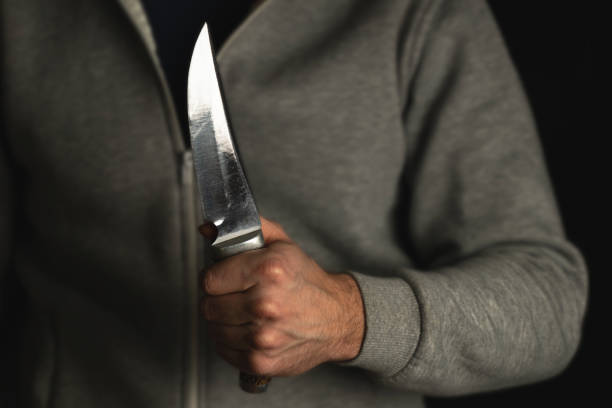knife: (184, 20, 271, 395)
